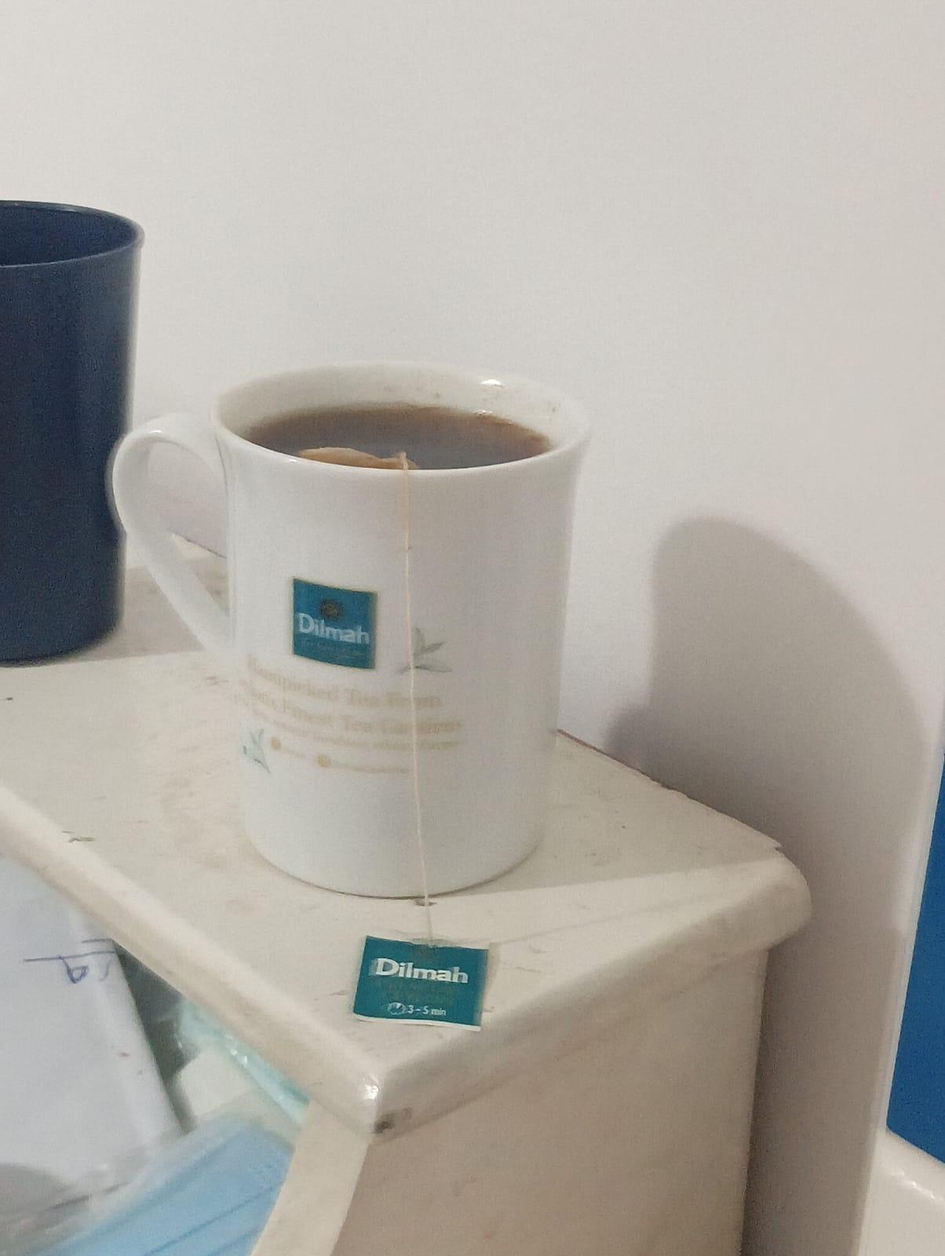cup: (113, 363, 587, 896), (0, 201, 142, 661)
